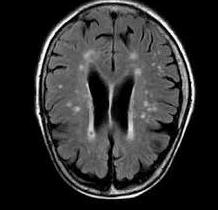Normal_Brain: (16, 1, 212, 210)
